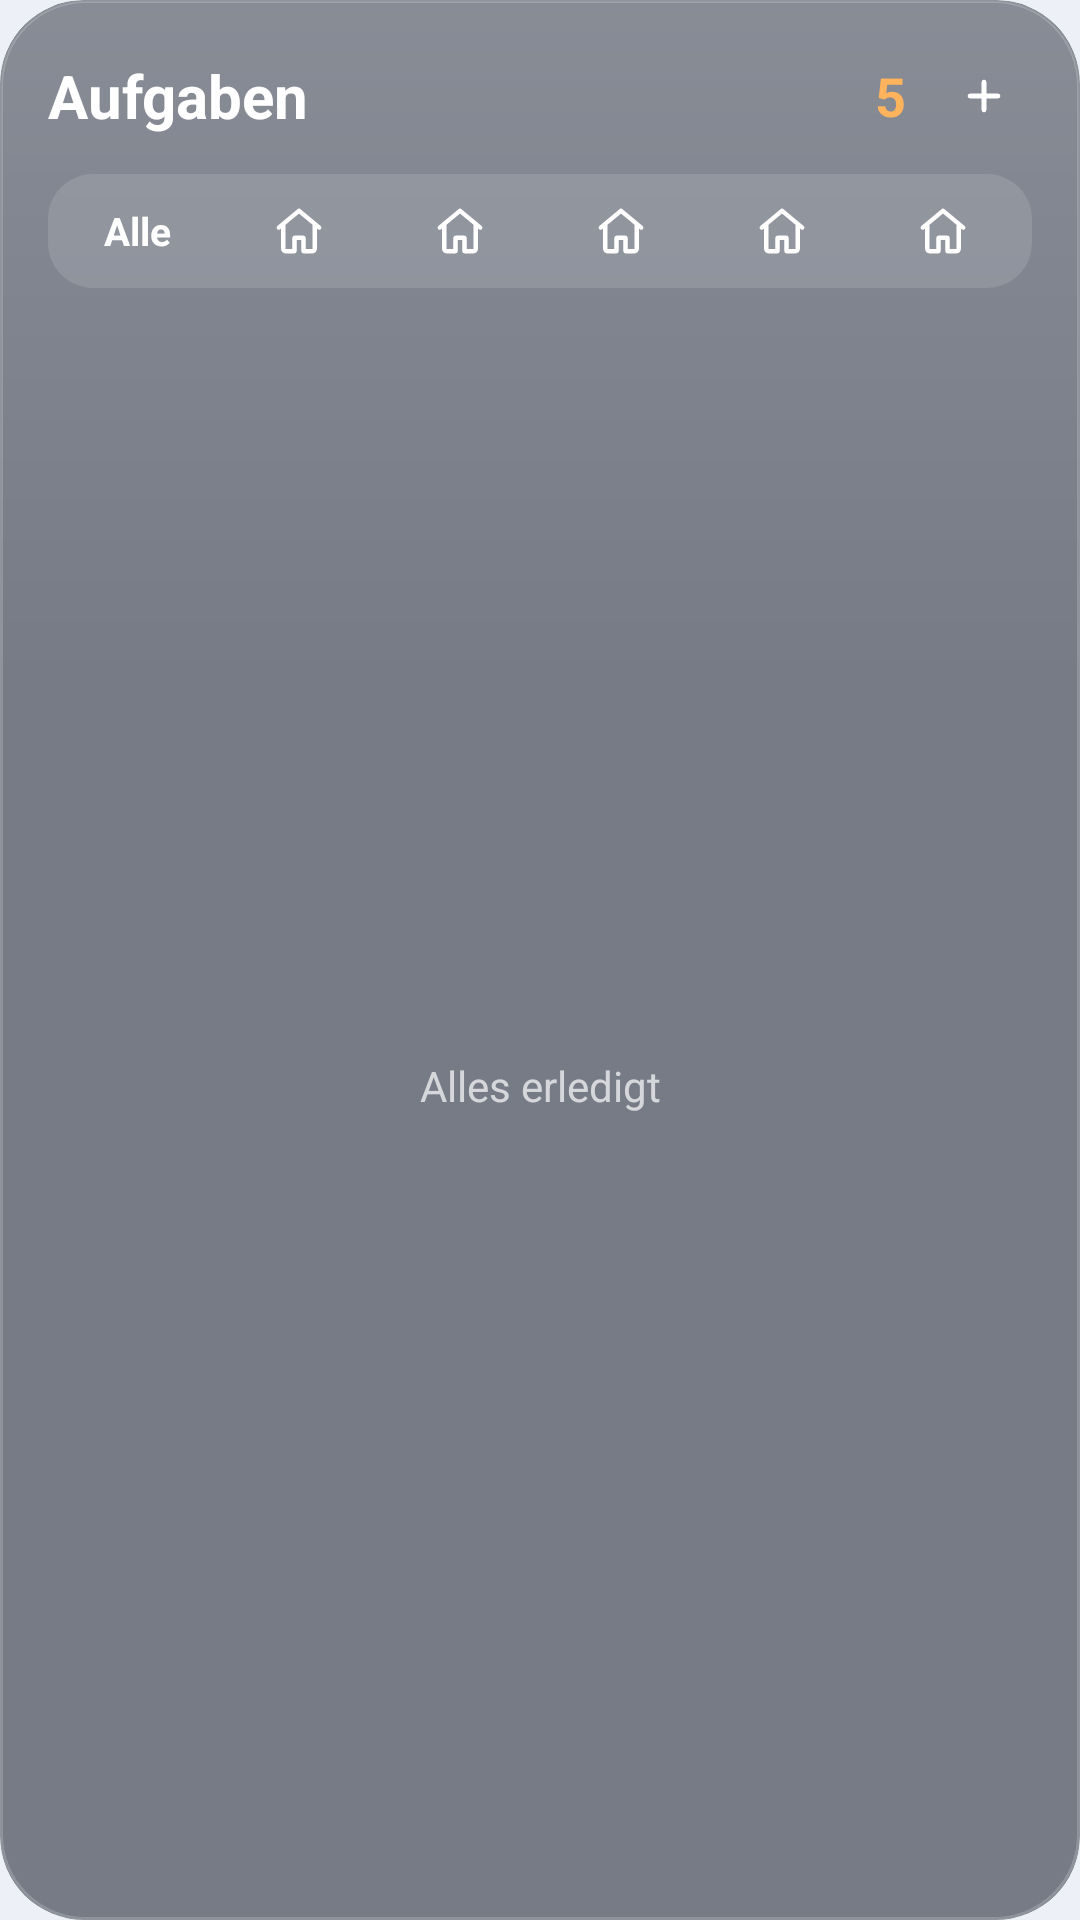

Icons on this 1080 × 1920 Android screen, each with the point to tap as (x,y):
Aufgabe hinzufügen: (984,96)
house: (299,231), (460,231), (621,231), (782,231), (943,231)
